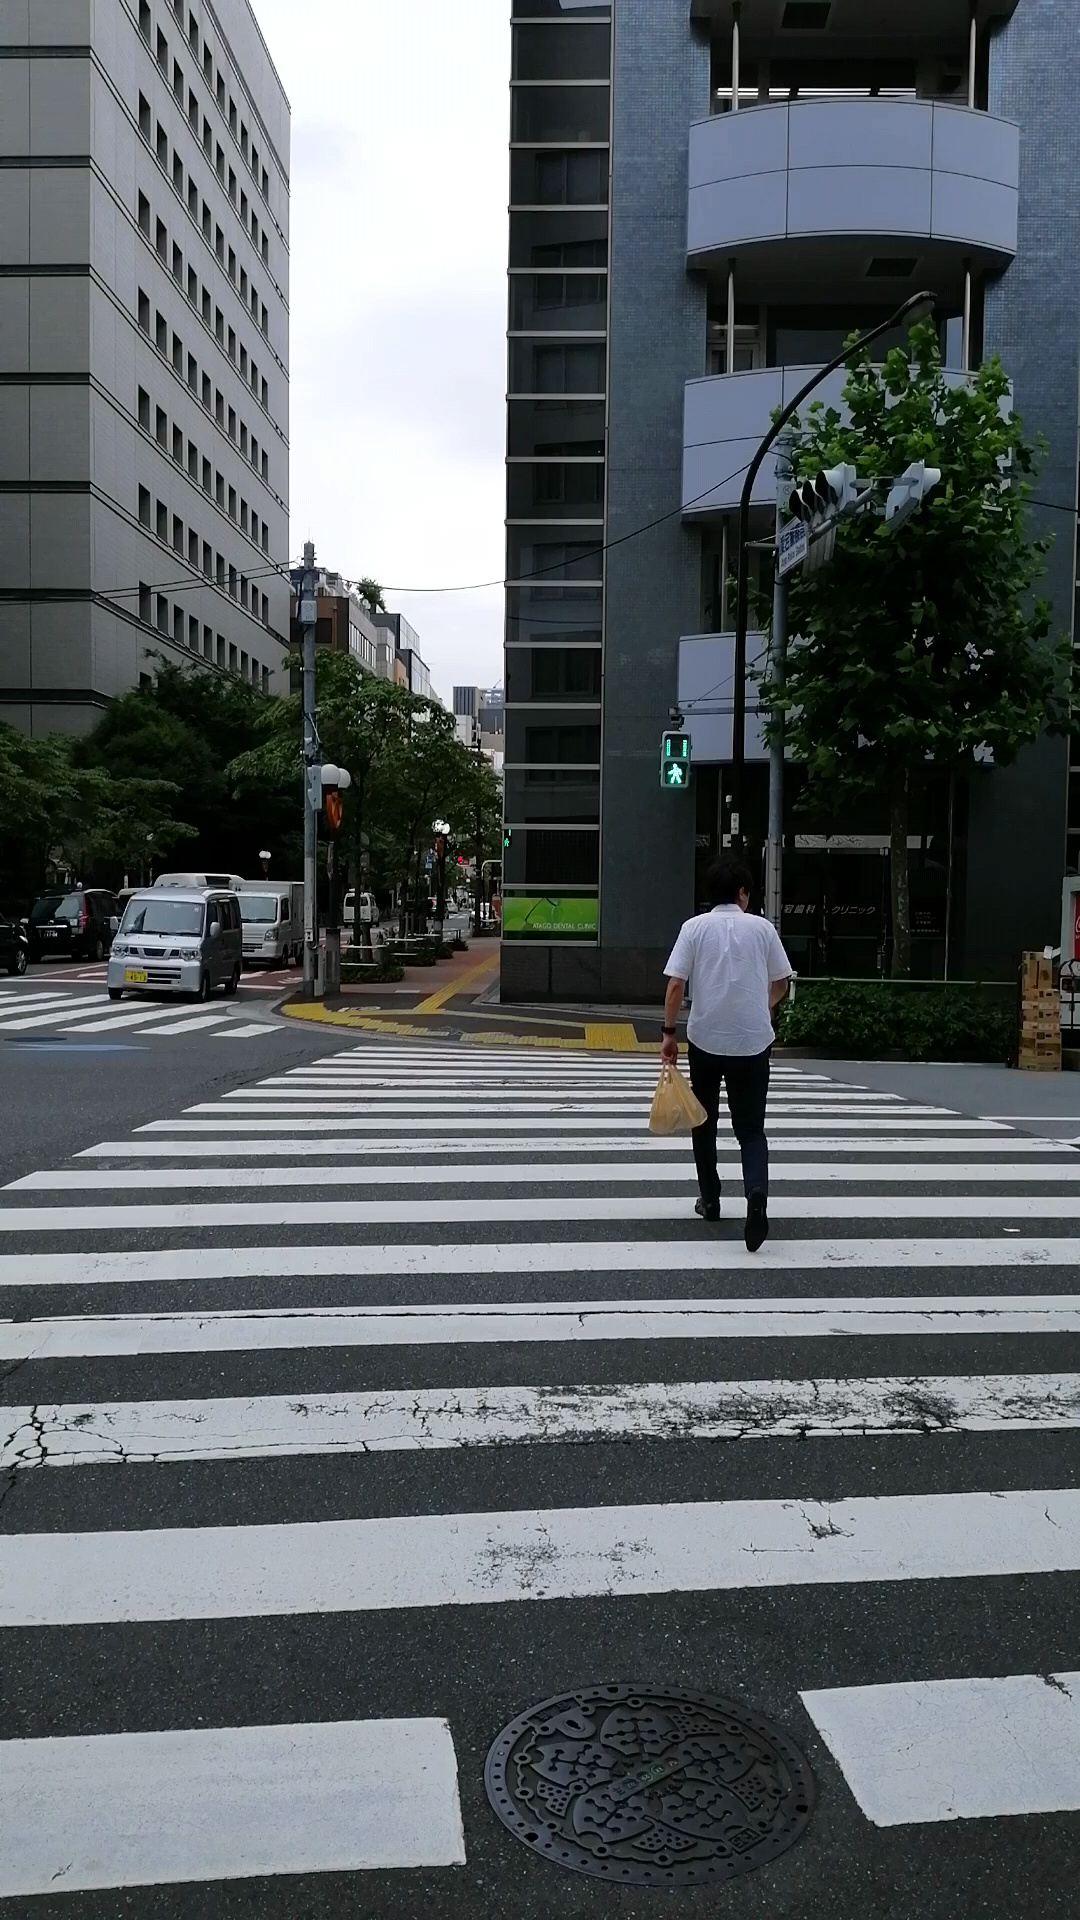green: (659, 729, 691, 789)
